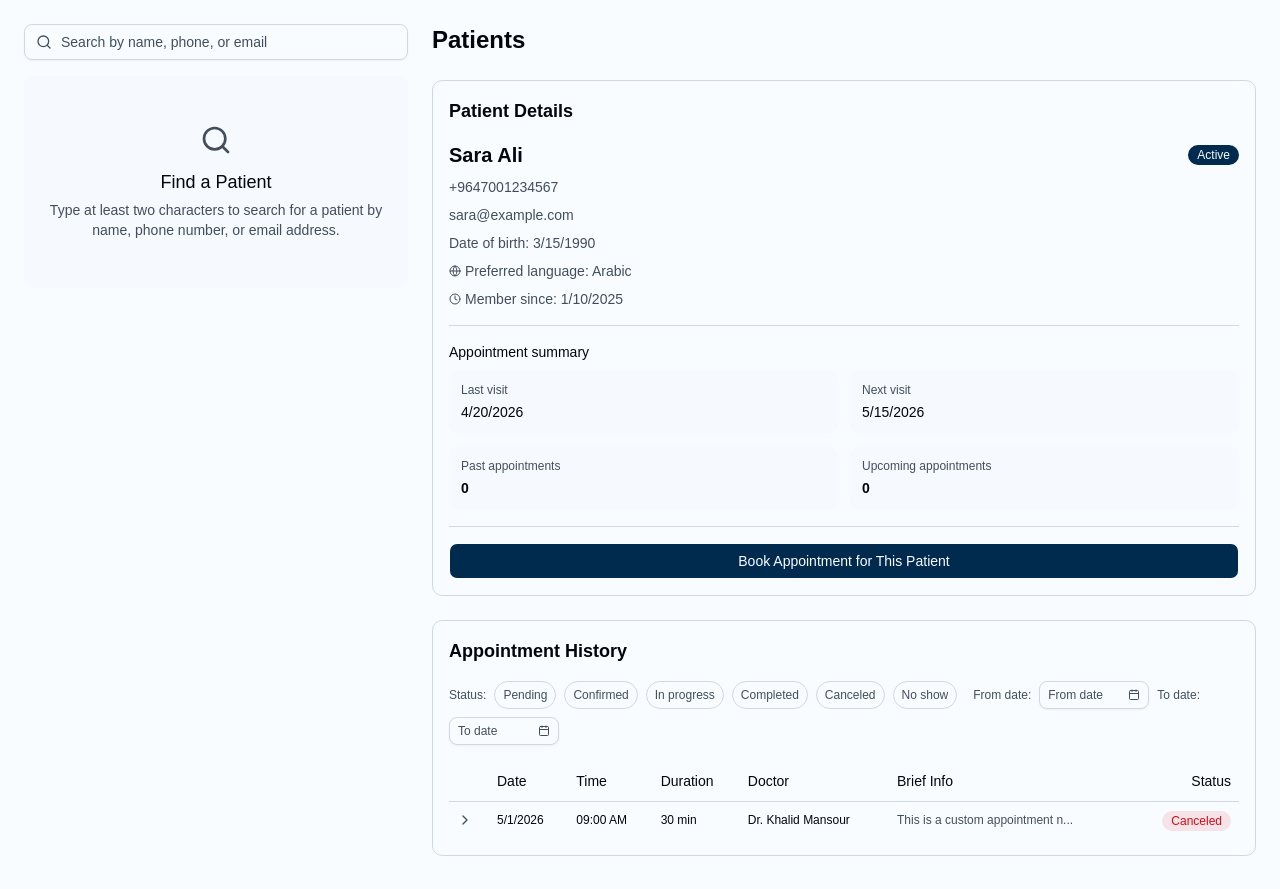
it: Patients Page specifications › PP-T007: appointment history with filters › toggles expanded details when a row is clicked
Expected: the heading "Appointment History" is shown, [449,637,627,665]
Expected: the text "Dr. Khalid Mansour" is shown, [748,813,850,827]
Step 1. Click the text "Dr. Khalid Mansour" → point(844, 820), box [449,801,1239,838]
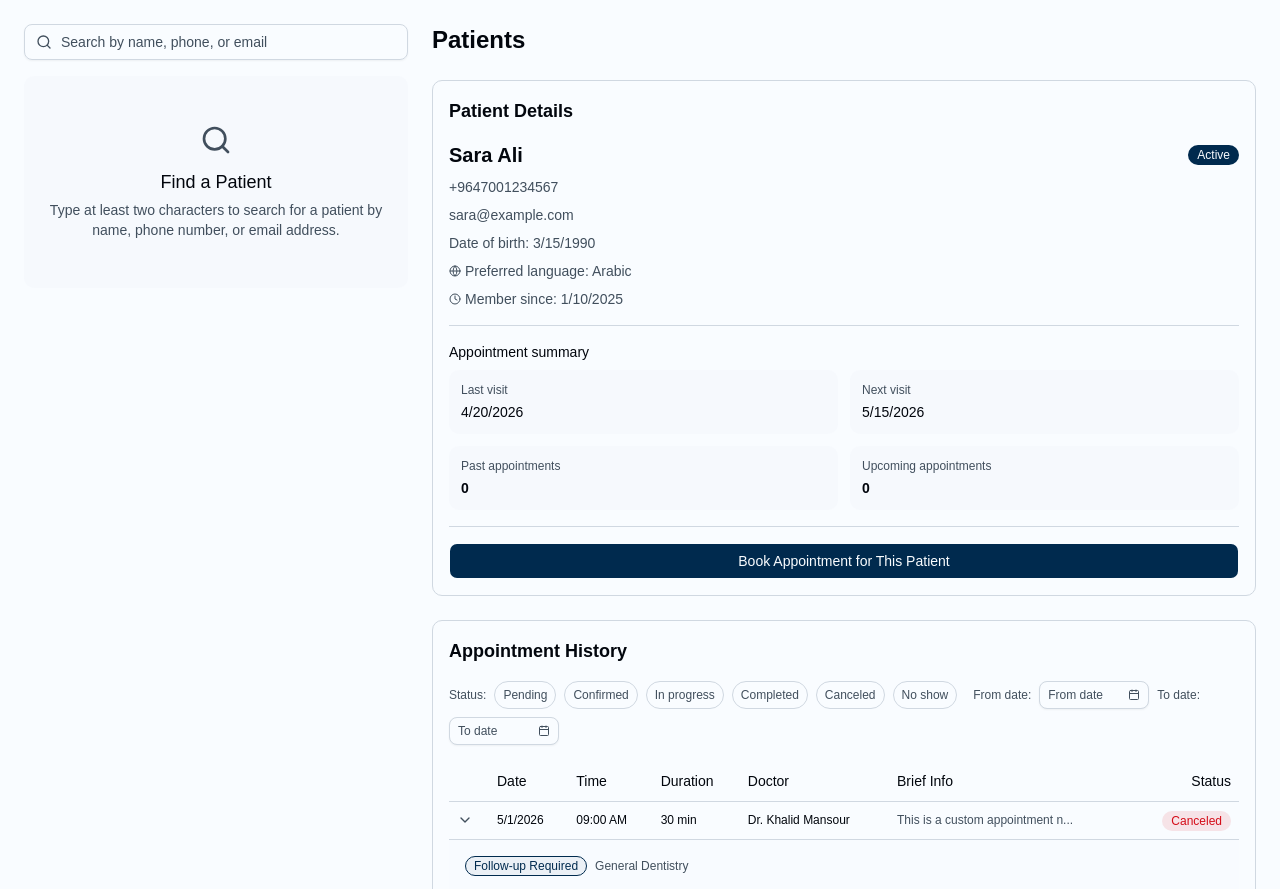
Expected: the text "Follow-up Required" is shown, [465,856,587,876]
Step 2. Click the text "Dr. Khalid Mansour" → point(844, 820), box [449,801,1239,839]
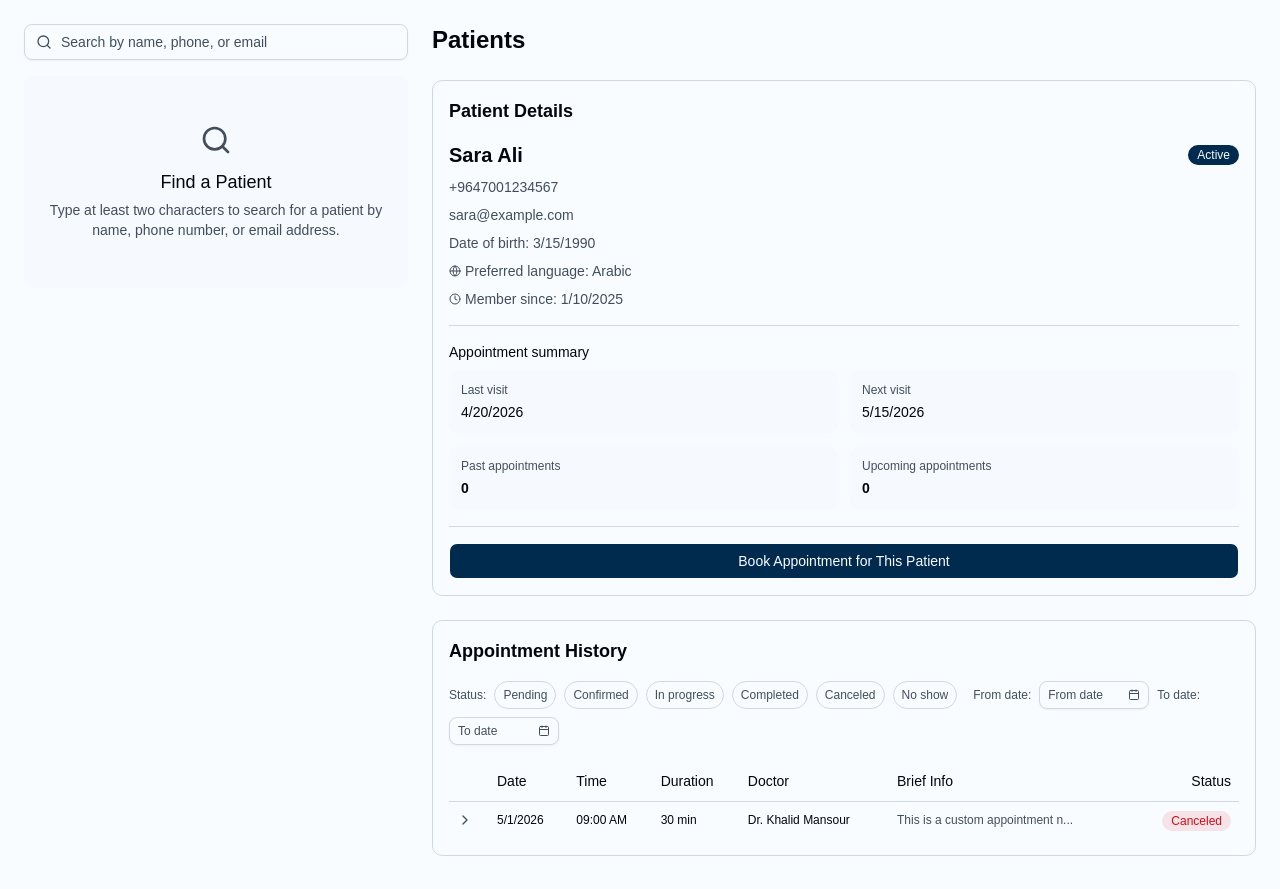
Expected: the text "Follow-up Required" is gone
